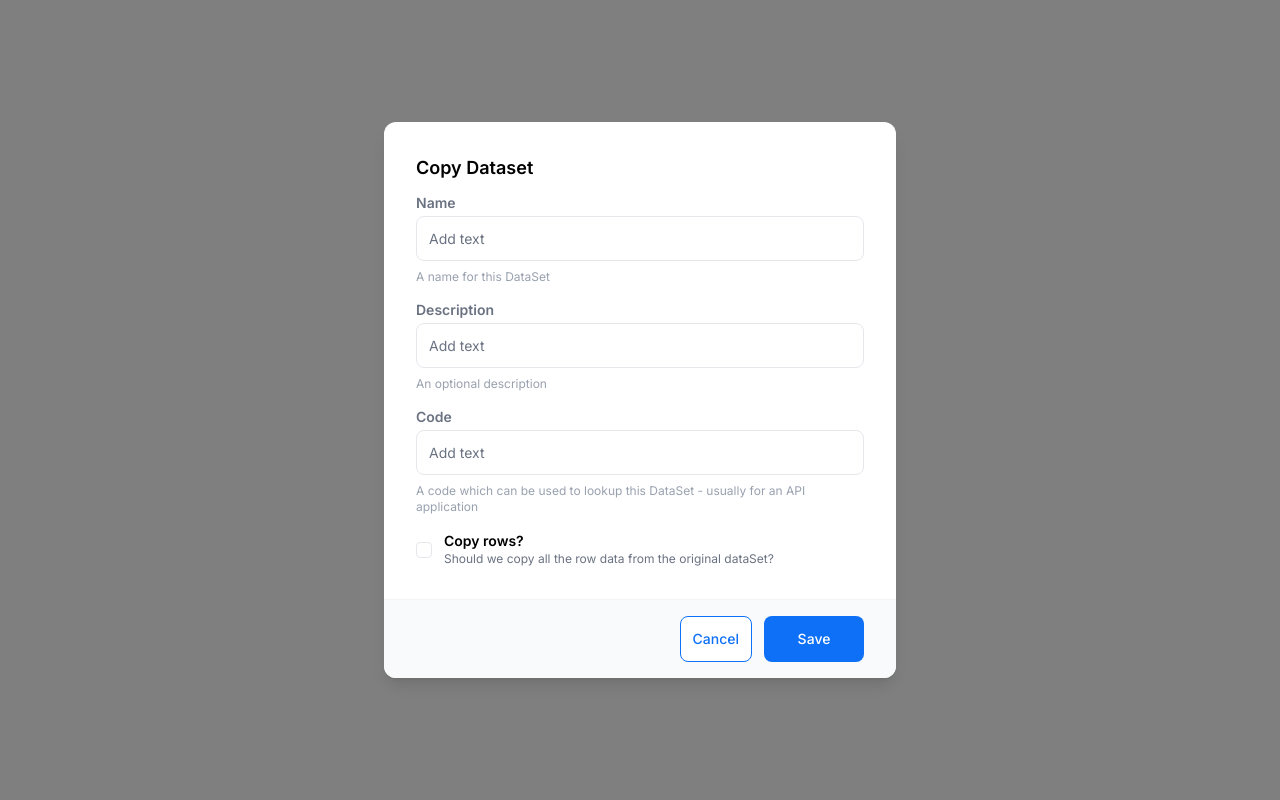
it: CopyDatasetModal › shows error when submitting with a duplicate name (case-insensitive)
Type "existingdataset" into the field labelled "Name" at (640, 238), box [417, 217, 863, 260]
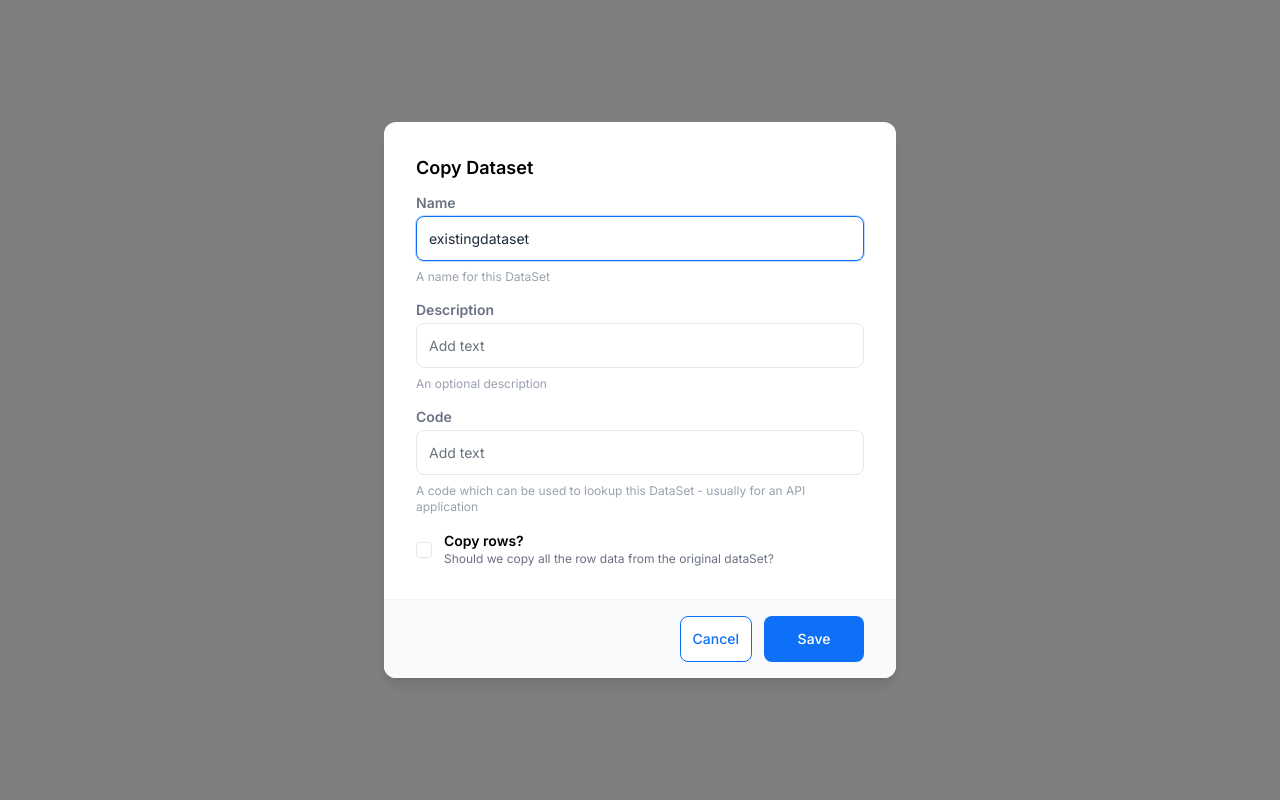
Click the button "Save" at (814, 639), box [764, 616, 864, 662]
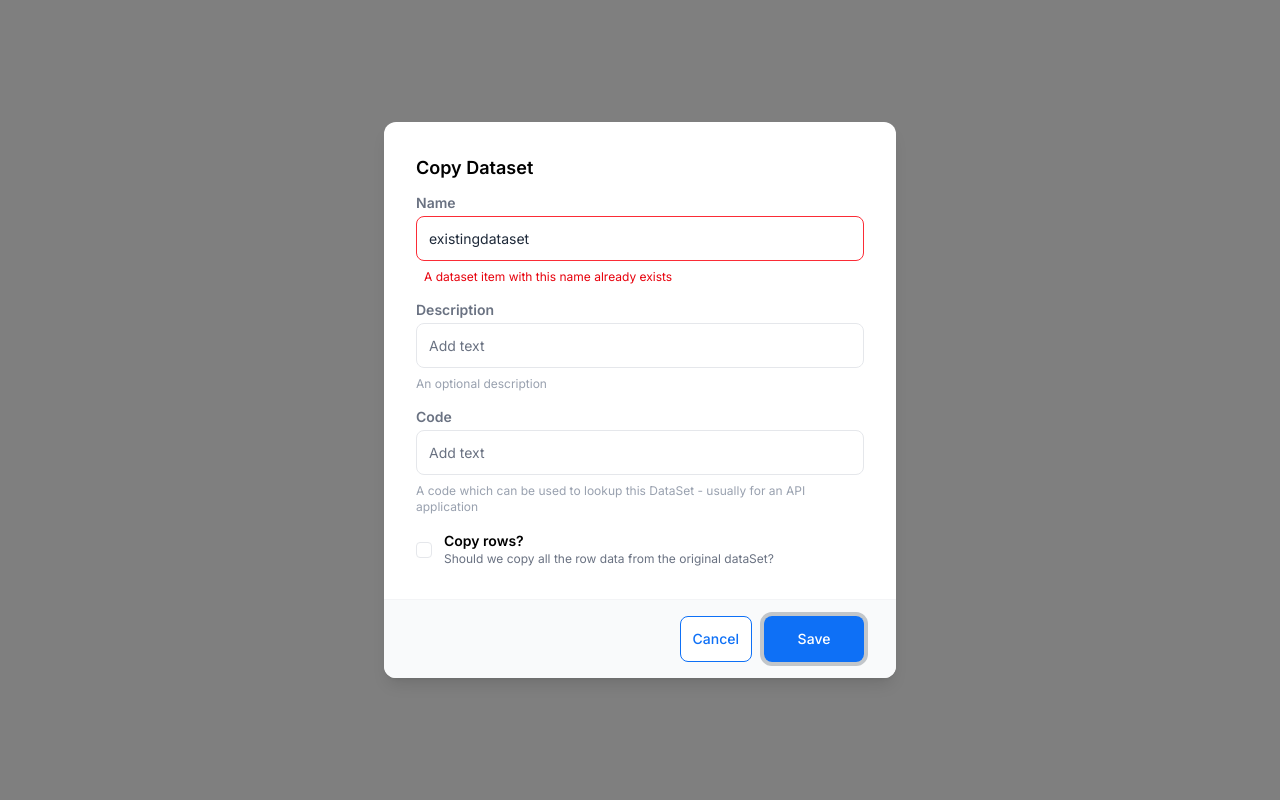
Expected: the text "A dataset item with this name already exists" is shown, [424, 269, 672, 284]
